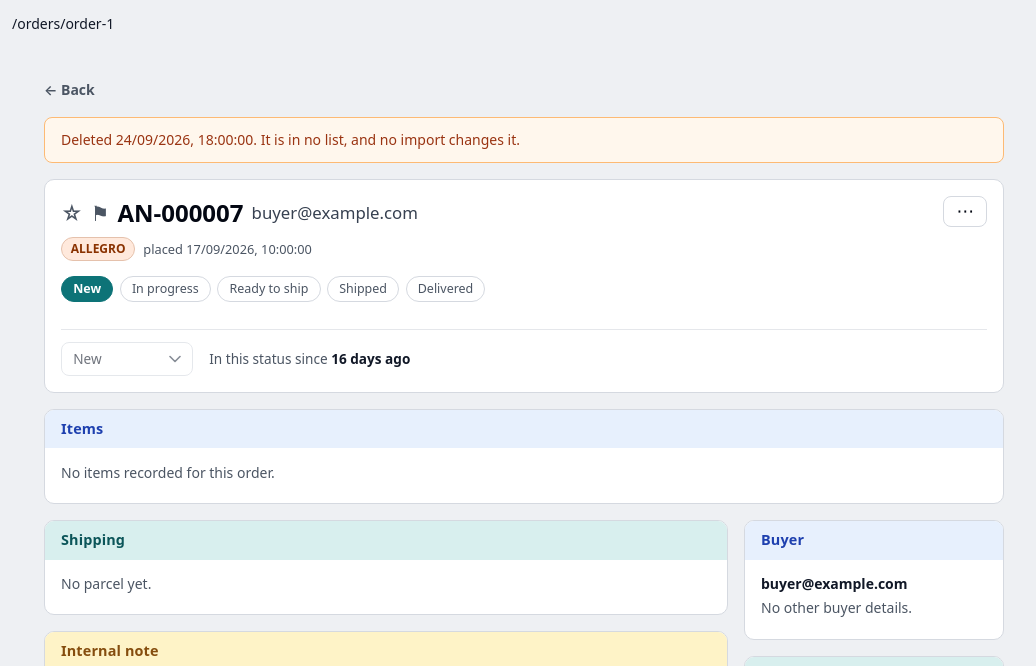
Test: deleting from the order's page › restores a deleted order
expect the text "Deleted 24/09/2026, 18:00:00. It is in no list, and no import changes it." is shown: met, box [44,117,1004,163]
Click the button named "Actions" at (965, 211), box [943,196,987,227]
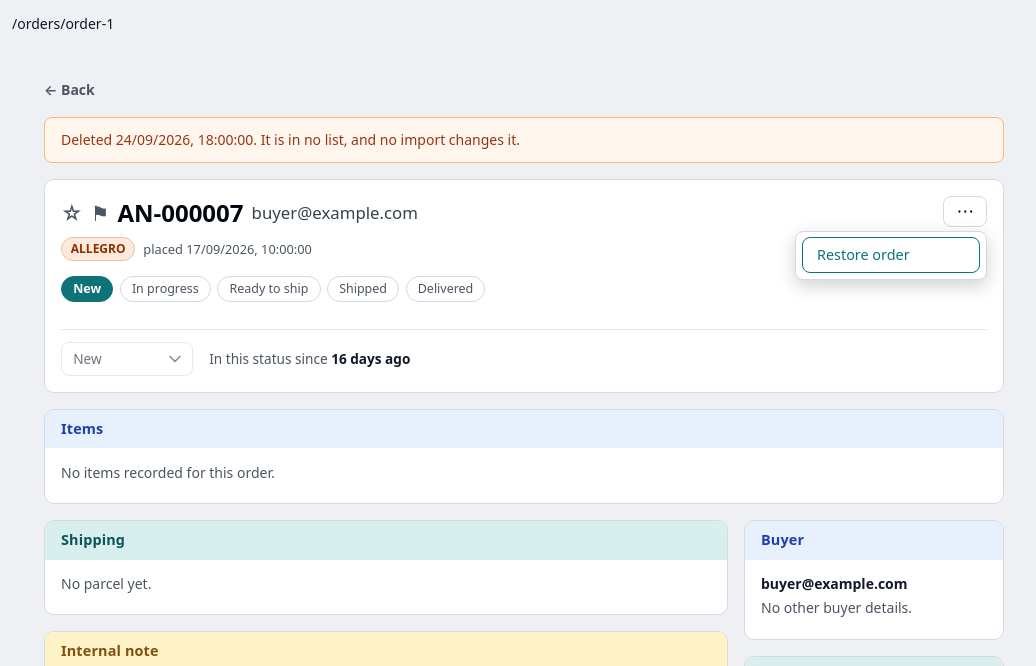
Click the menu item "Restore order" at (891, 255), box [802,237,980,273]
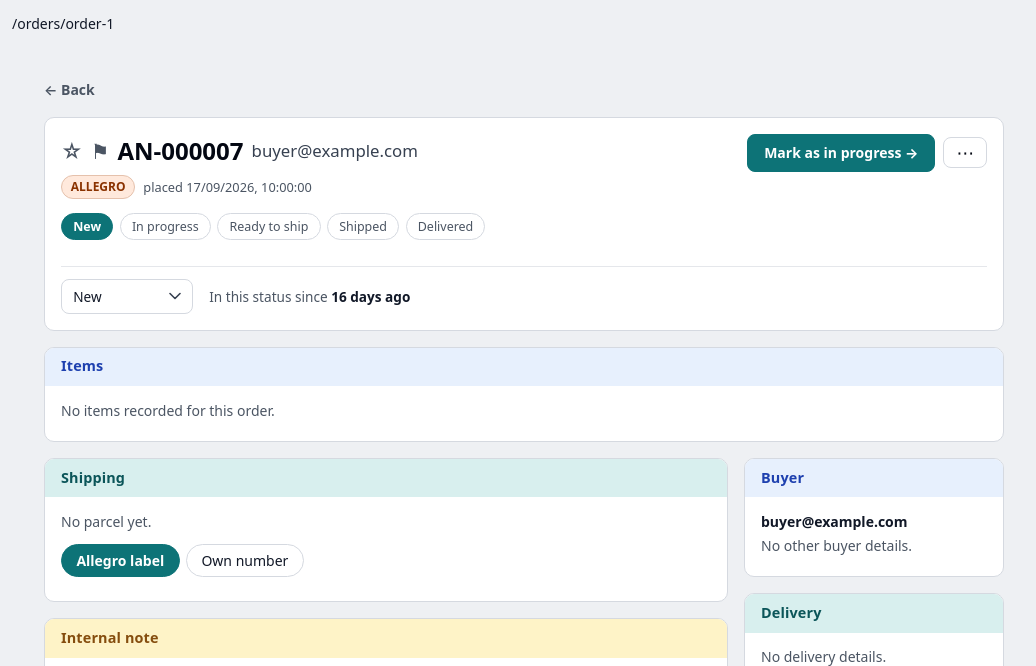
Click the button named "Actions" at (965, 153), box [943,137,987,168]
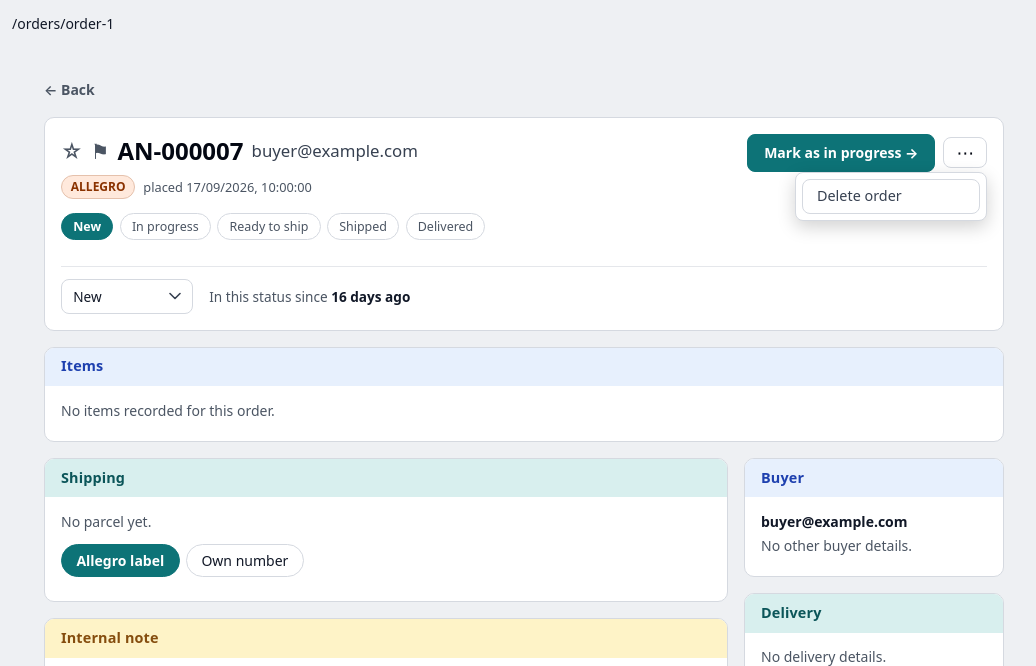
expect the text "It is in no list" is not shown: met
expect the dropdown named "Status" is enabled: met, box [61,279,193,314]
expect the menu item "Delete order" is shown: met, box [802,179,980,214]
